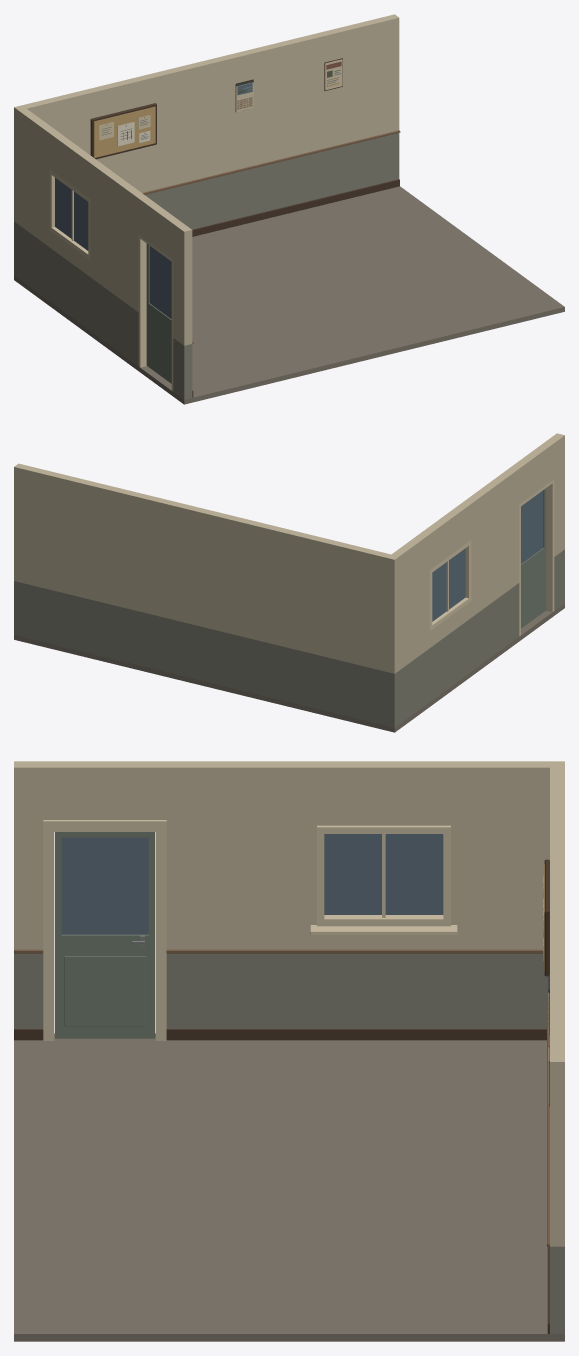
The model's file is BellOffice_Architecture.fbx.
The picture shows the model from 3 angles, top to bottom: view 1: azimuth 30°, elevation 25°; view 2: azimuth 150°, elevation 25°; view 3: azimuth 270°, elevation 25°; orthographic projection. The views are drawn at different scales.
Visible parts, largest first — view 1: BellOffice_Floor, BellOffice_Back_Wall, BellOffice_Left_Wall, BellOffice_Entrance_Door, BellOffice_Contractor_Noticeboard, BellOffice_Left_Window, BellOffice_Baseboards, BellOffice_Entrance_Frame, BellOffice_Panel_Trim, Bell_WallCalendar, Bell_WallSafetyNotice; view 2: BellOffice_Back_Wall, BellOffice_Left_Wall, BellOffice_Floor, BellOffice_Entrance_Door, BellOffice_Left_Window, BellOffice_Entrance_Frame; view 3: BellOffice_Floor, BellOffice_Left_Wall, BellOffice_Entrance_Door, BellOffice_Left_Window, BellOffice_Back_Wall, BellOffice_Entrance_Frame, BellOffice_Baseboards, BellOffice_Panel_Trim, BellOffice_Contractor_Noticeboard.
Boxes of the visible parts, bbox=[...] form: BellOffice_Floor: bbox=[14, 186, 564, 404]; BellOffice_Back_Wall: bbox=[14, 14, 399, 278]; BellOffice_Left_Wall: bbox=[18, 108, 192, 399]; BellOffice_Entrance_Door: bbox=[146, 243, 171, 383]; BellOffice_Contractor_Noticeboard: bbox=[90, 103, 156, 159]; BellOffice_Left_Window: bbox=[49, 169, 92, 263]; BellOffice_Baseboards: bbox=[192, 179, 399, 397]; BellOffice_Entrance_Frame: bbox=[138, 235, 173, 391]; BellOffice_Panel_Trim: bbox=[142, 130, 400, 343]; Bell_WallCalendar: bbox=[235, 79, 253, 111]; Bell_WallSafetyNotice: bbox=[324, 58, 342, 91]; BellOffice_Back_Wall: bbox=[14, 463, 399, 727]; BellOffice_Left_Wall: bbox=[391, 433, 564, 724]; BellOffice_Floor: bbox=[14, 603, 564, 732]; BellOffice_Entrance_Door: bbox=[521, 488, 546, 628]; BellOffice_Left_Window: bbox=[430, 540, 471, 630]; BellOffice_Entrance_Frame: bbox=[519, 479, 554, 636]; BellOffice_Floor: bbox=[14, 1033, 564, 1341]; BellOffice_Left_Wall: bbox=[14, 761, 549, 1028]; BellOffice_Entrance_Door: bbox=[55, 832, 155, 1038]; BellOffice_Left_Window: bbox=[310, 825, 457, 935]; BellOffice_Back_Wall: bbox=[550, 761, 564, 1333]; BellOffice_Entrance_Frame: bbox=[43, 820, 166, 1040]; BellOffice_Baseboards: bbox=[14, 1029, 549, 1333]; BellOffice_Panel_Trim: bbox=[14, 949, 549, 1246]; BellOffice_Contractor_Noticeboard: bbox=[543, 859, 549, 976].
Bounding box in the file's own units: 6.64 × 2.88 × 5.14.
